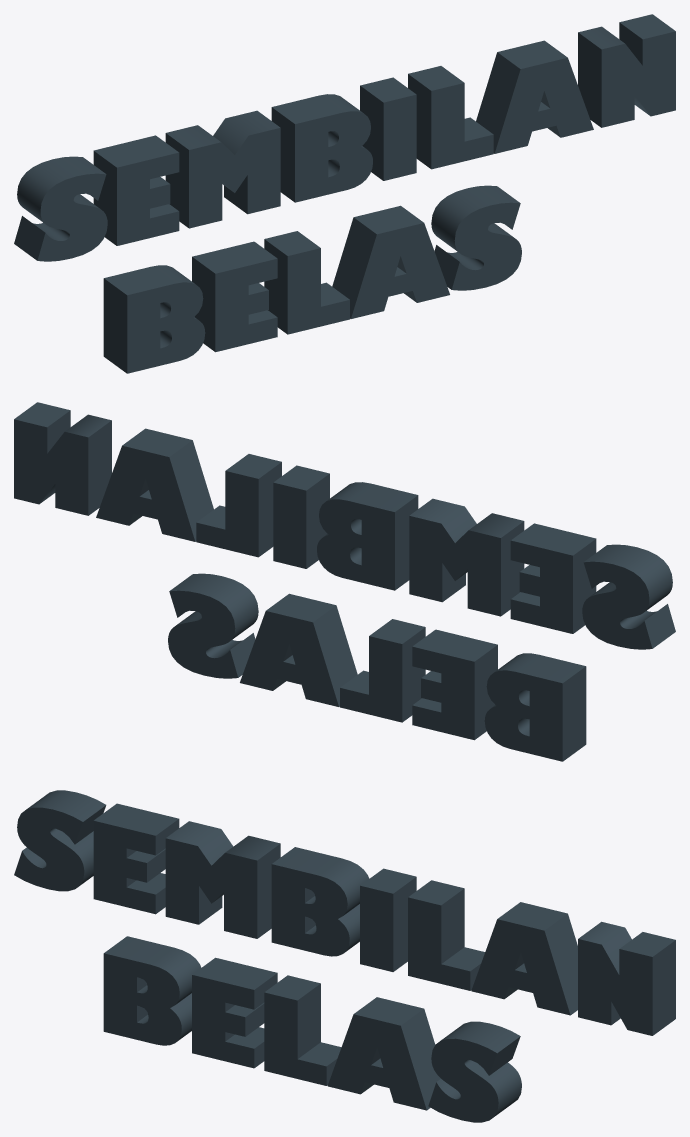
Rendered from SEMBILAN BELAS.fbx.
3 renders of one model, top to bottom at view 1: azimuth 30°, elevation 25°; view 2: azimuth 150°, elevation 25°; view 3: azimuth 330°, elevation 25°, orthographic.
Parts seen in each view (by area): view 1: node_id177 (×2); view 2: node_id177 (×2); view 3: node_id177 (×2).
Boxes of the visible parts, left/top/right/bottom form: node_id177 (×2): left=14, top=14, right=675, bottom=373; node_id177 (×2): left=14, top=402, right=675, bottom=761; node_id177 (×2): left=14, top=790, right=675, bottom=1122.
Size of the model in its own units: 0.2362 by 0.0746 by 0.015.
